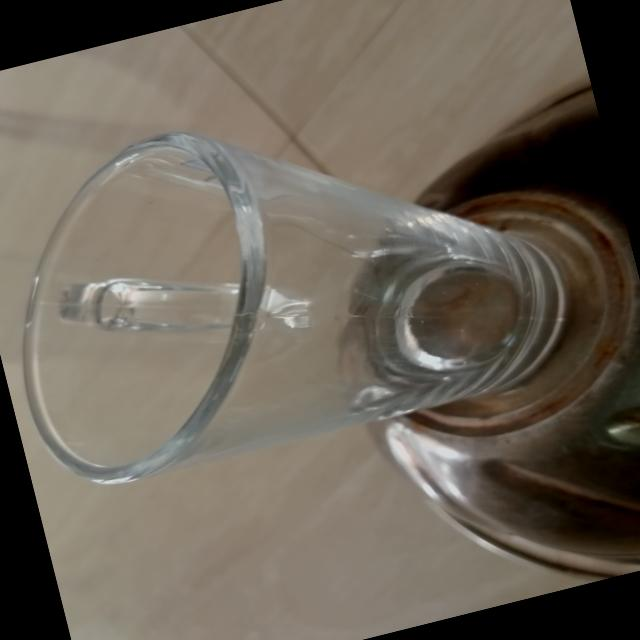glass-VX4N: (0, 47, 589, 505)
